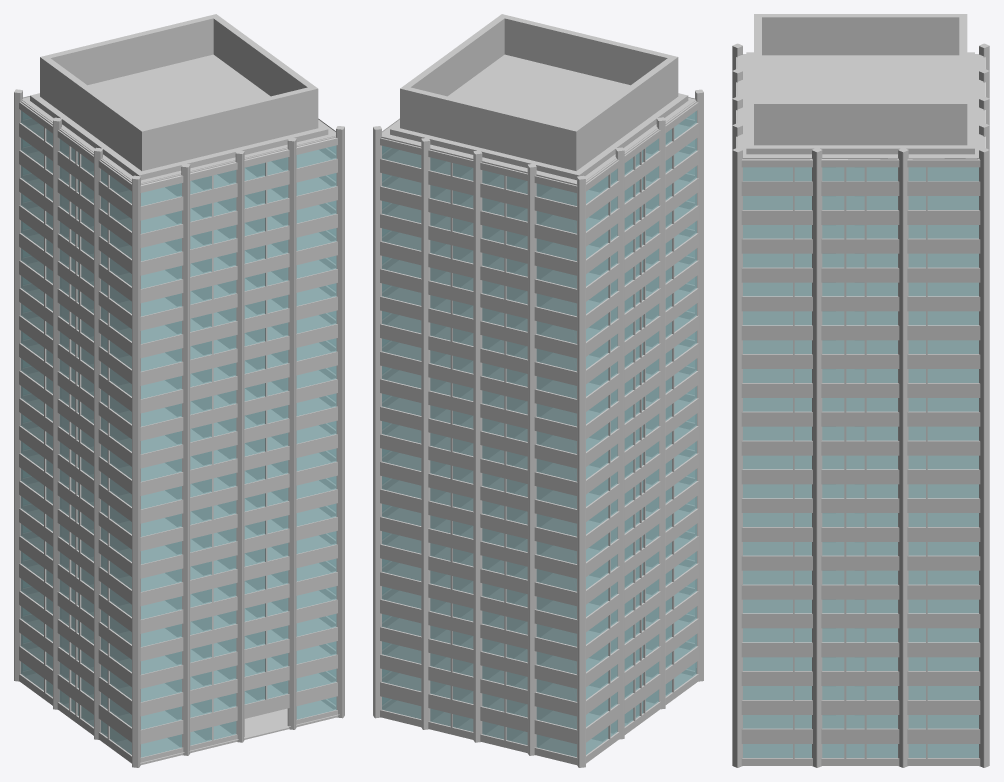
File: tower-block_in.glb
The picture shows the model from 3 angles, left to right: view 1: azimuth 30°, elevation 25°; view 2: azimuth 150°, elevation 25°; view 3: azimuth 270°, elevation 25°; orthographic projection. The views are drawn at different scales.
Visible parts, largest first — view 1: Pillars, Roof, Walls+Floor.019, Walls+Floor, Walls+Floor.001, Walls+Floor.003, Walls+Floor.007, Walls+Floor.005, Walls+Floor.010, Walls+Floor.017, Walls+Floor.012, Walls+Floor.013 (+55 smaller); view 2: Pillars, Roof, Walls+Floor.019, Walls+Floor, Walls+Floor.005, Walls+Floor.001, Walls+Floor.008, Walls+Floor.012, Walls+Floor.014, Walls+Floor.009, Walls+Floor.010, Walls+Floor.003 (+54 smaller); view 3: Roof, Pillars, Walls+Floor.019, Walls+Floor.003, Walls+Floor.009, Walls+Floor.014, Walls+Floor.015, Walls+Floor.010, Walls+Floor.004, Walls+Floor.011, Walls+Floor.016, Walls+Floor.017 (+33 smaller).
Part boxes in pixels (left/top/right/bottom): Pillars: left=14, top=89, right=344, bottom=767; Roof: left=21, top=14, right=335, bottom=184; Walls+Floor.019: left=19, top=96, right=337, bottom=213; Walls+Floor: left=19, top=626, right=337, bottom=737; Walls+Floor.001: left=19, top=598, right=337, bottom=709; Walls+Floor.003: left=19, top=543, right=337, bottom=654; Walls+Floor.007: left=19, top=433, right=337, bottom=544; Walls+Floor.005: left=19, top=488, right=337, bottom=599; Walls+Floor.010: left=19, top=350, right=337, bottom=461; Walls+Floor.017: left=19, top=157, right=337, bottom=268; Walls+Floor.012: left=19, top=295, right=337, bottom=406; Walls+Floor.013: left=19, top=268, right=337, bottom=378; Pillars: left=373, top=89, right=703, bottom=767; Roof: left=382, top=14, right=696, bottom=184; Walls+Floor.019: left=380, top=97, right=698, bottom=213; Walls+Floor: left=380, top=626, right=698, bottom=737; Walls+Floor.005: left=380, top=488, right=698, bottom=599; Walls+Floor.001: left=380, top=598, right=698, bottom=709; Walls+Floor.008: left=380, top=405, right=698, bottom=516; Walls+Floor.012: left=380, top=295, right=698, bottom=406; Walls+Floor.014: left=380, top=240, right=698, bottom=351; Walls+Floor.009: left=380, top=378, right=698, bottom=489; Walls+Floor.010: left=380, top=350, right=698, bottom=461; Walls+Floor.003: left=380, top=543, right=698, bottom=654; Roof: left=737, top=14, right=983, bottom=158; Pillars: left=732, top=43, right=989, bottom=767; Walls+Floor.019: left=736, top=54, right=985, bottom=189; Walls+Floor.003: left=741, top=621, right=980, bottom=650; Walls+Floor.009: left=741, top=448, right=980, bottom=477; Walls+Floor.014: left=741, top=304, right=980, bottom=333; Walls+Floor.015: left=741, top=275, right=980, bottom=304; Walls+Floor.010: left=741, top=419, right=980, bottom=448; Walls+Floor.004: left=741, top=592, right=980, bottom=621; Walls+Floor.011: left=741, top=390, right=980, bottom=419; Walls+Floor.016: left=741, top=246, right=980, bottom=275; Walls+Floor.017: left=741, top=217, right=980, bottom=246.
Size of what is drawn, in the model's own units: 22.63 by 63.58 by 22.63.
